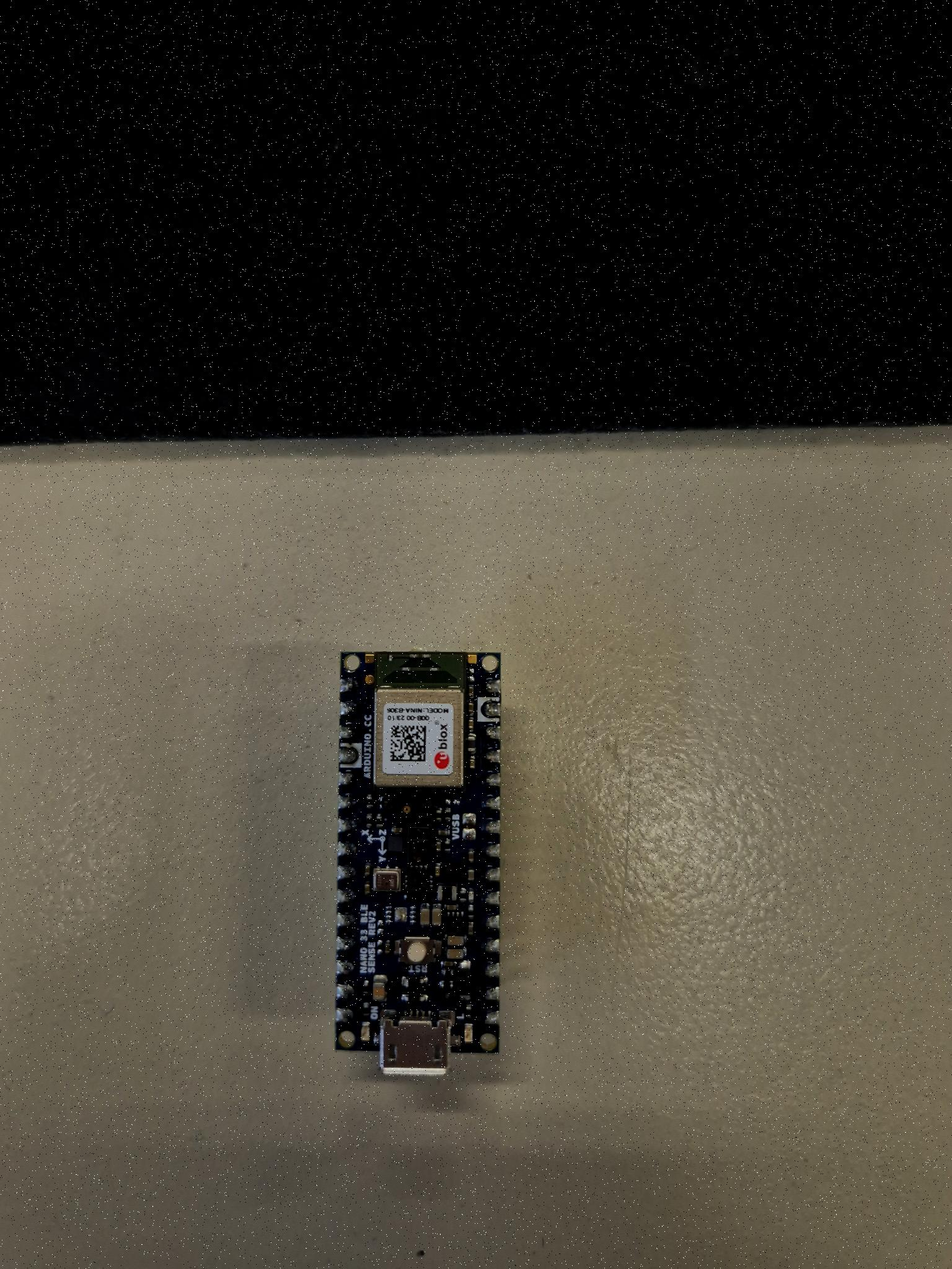arduino-nano-ble-sense: (336, 652, 500, 1075)
